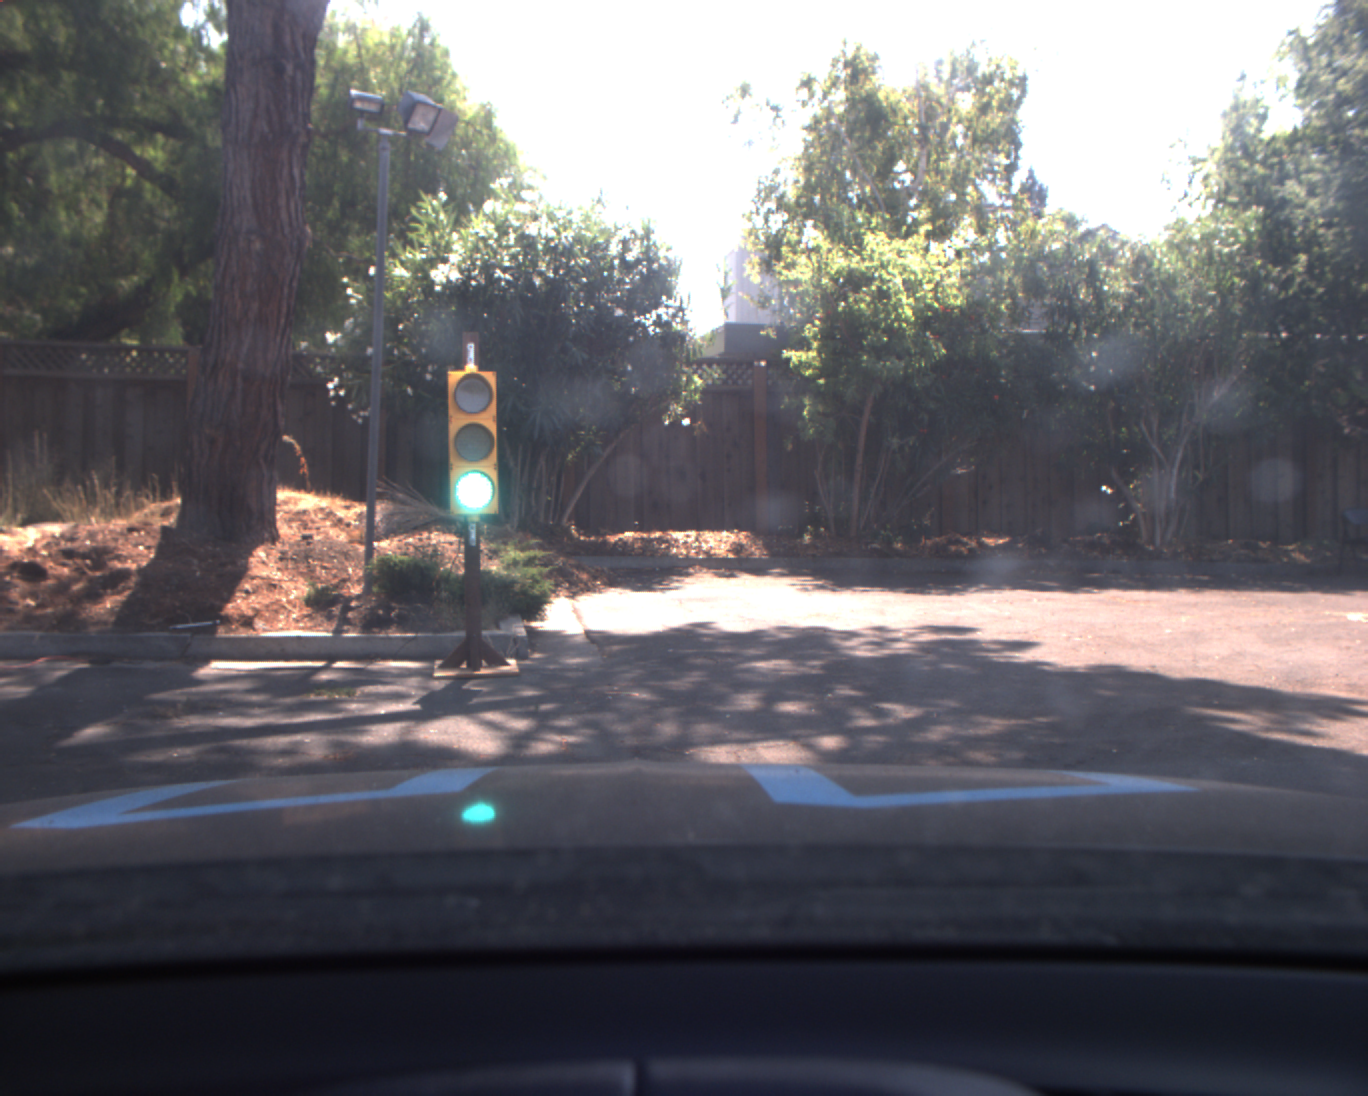green: (446, 366, 503, 520)
